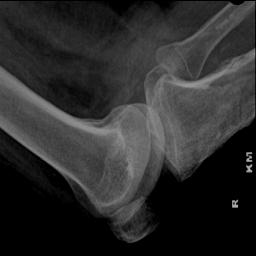cancer: (168, 50, 254, 179)
